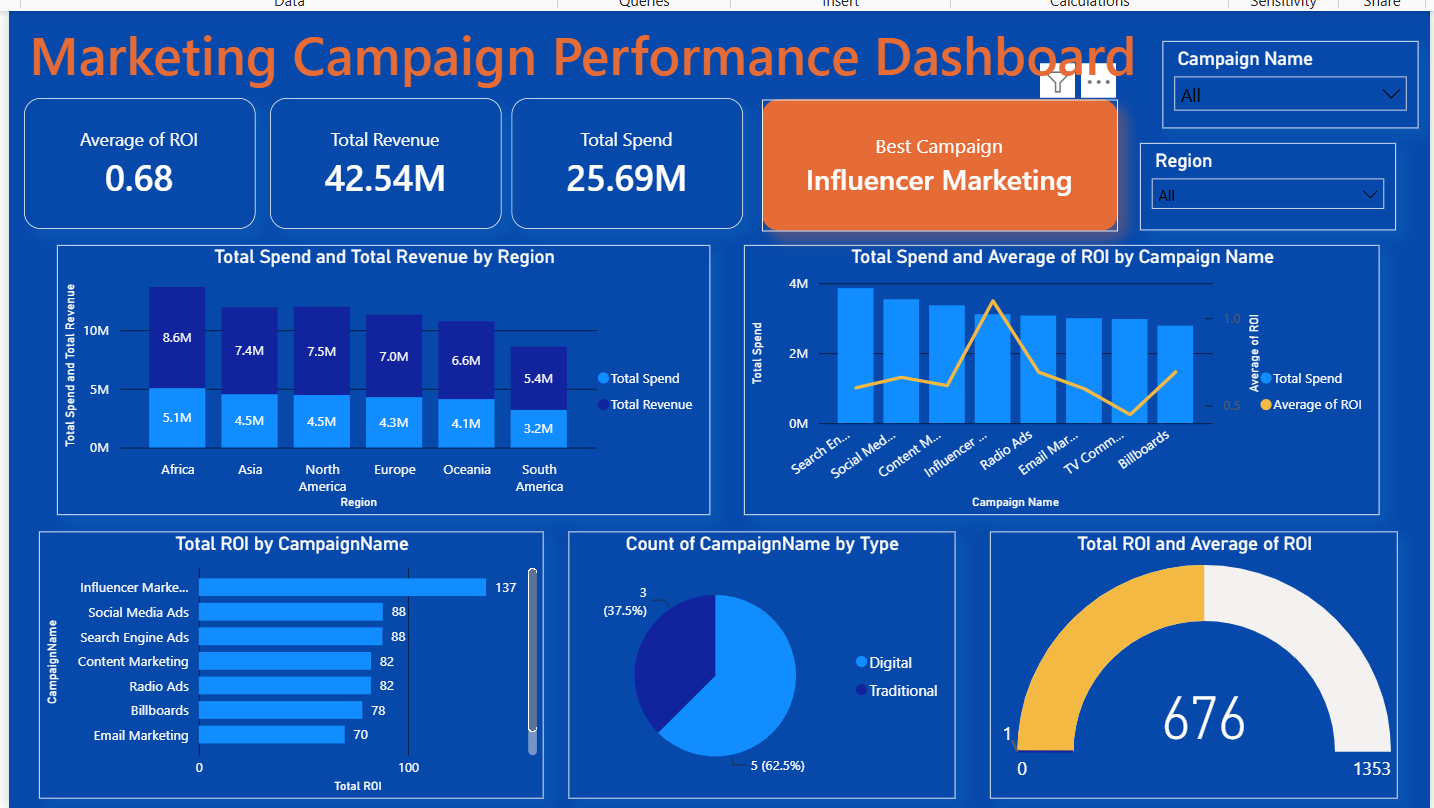

Layout of this report page (visuals, bound fields, positions):
{"tool":"powerbi","page":{"name":"Page 1","canvas":[1280,720],"ordinal":0},"visuals":[{"type":"columnChart","fields":{"Category":["marketing campaign performance.Region"],"Y":["marketing campaign performance.Total Spend","marketing campaign performance.Total Revenue"]},"box":[43.7,211.4,589,243.5],"z":0},{"type":"lineClusteredColumnComboChart","fields":{"Category":["marketing campaign performance.Campaign Name"],"Y":["marketing campaign performance.Total Spend"],"Y2":["Avg(marketing campaign performance.ROI)"]},"box":[661.9,211.4,572.9,243.5],"z":1000},{"type":"barChart","fields":{"Category":["marketing campaign details.Campaign Name"],"Y":["marketing campaign performance.Total ROI"]},"box":[27.7,469.4,454.9,240.5],"z":2000},{"type":"pieChart","fields":{"Category":["marketing campaign details.Type"],"Y":["CountNonNull(marketing campaign details.CampaignName)"]},"box":[504.4,469.4,348.4,240.5],"z":3000},{"type":"gauge","fields":{"Y":["marketing campaign performance.Total ROI"],"TargetValue":["Avg(marketing campaign performance.ROI)"]},"box":[883.5,469.4,367.4,240.5],"z":4000},{"type":"cardVisual","fields":{"Data":["Avg(marketing campaign performance.ROI)"]},"box":[13.1,78.7,208.5,118.1],"z":5000},{"type":"cardVisual","fields":{"Data":["marketing campaign performance.Total Spend"]},"box":[453.4,78.7,208.5,118.1],"z":6000},{"type":"cardVisual","fields":{"Data":["marketing campaign performance.Total Revenue"]},"box":[234.7,78.7,208.5,118.1],"z":7000},{"type":"cardVisual","fields":{"Data":["marketing campaign performance.Best Campaign"]},"box":[677.9,80.2,320.7,118.1],"z":8000},{"type":"slicer","fields":{"Values":["marketing campaign performance.Region"]},"box":[1019,119.5,230.3,78.7],"z":9000},{"type":"slicer","fields":{"Values":["marketing campaign performance.Campaign Name"]},"box":[1039.5,27.7,230.3,78.7],"z":10000},{"type":"textbox","box":[13.1,0,1237.7,78.7],"z":10001}]}

Visuals, with their boxes in screenshot pixels (x1, y1, x2, y2):
columnChart - marketing campaign performance.Region x marketing campaign performance.Total Spend: box(93, 241, 744, 510)
lineClusteredColumnComboChart - marketing campaign performance.Campaign Name x marketing campaign performance.Total Spend: box(776, 241, 1409, 510)
barChart - marketing campaign details.Campaign Name x marketing campaign performance.Total ROI: box(75, 526, 578, 792)
pieChart - marketing campaign details.Type x CountNonNull(marketing campaign details.CampaignName): box(602, 526, 987, 792)
gauge - marketing campaign performance.Total ROI x Avg(marketing campaign performance.ROI): box(1021, 526, 1427, 792)
cardVisual - Avg(marketing campaign performance.ROI): box(59, 94, 290, 225)
cardVisual - marketing campaign performance.Total Spend: box(546, 94, 776, 225)
cardVisual - marketing campaign performance.Total Revenue: box(304, 94, 534, 225)
cardVisual - marketing campaign performance.Best Campaign: box(794, 96, 1148, 227)
slicer - marketing campaign performance.Region: box(1171, 139, 1425, 226)
slicer - marketing campaign performance.Campaign Name: box(1193, 38, 1433, 125)
textbox: box(59, 7, 1427, 94)
